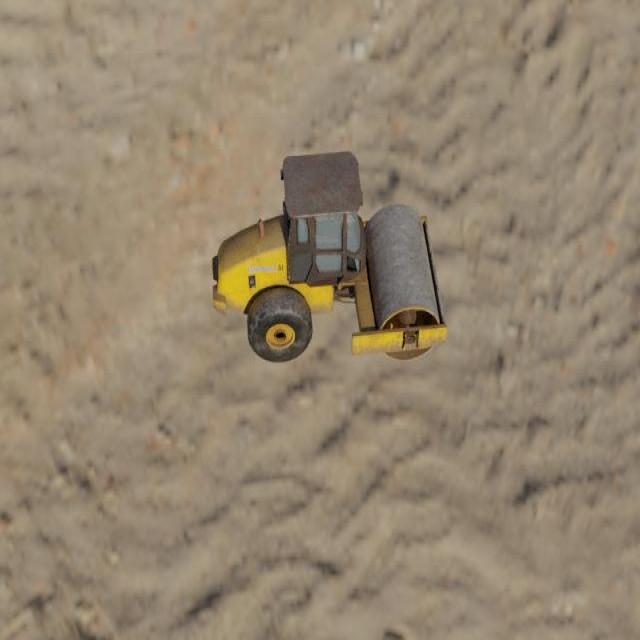Roller: (211, 149, 447, 363)
